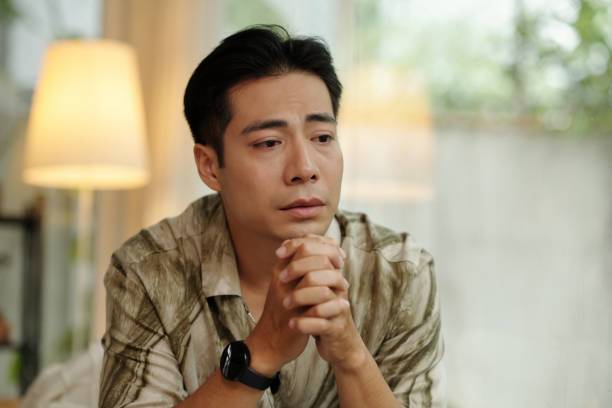Male: (110, 28, 443, 408)
